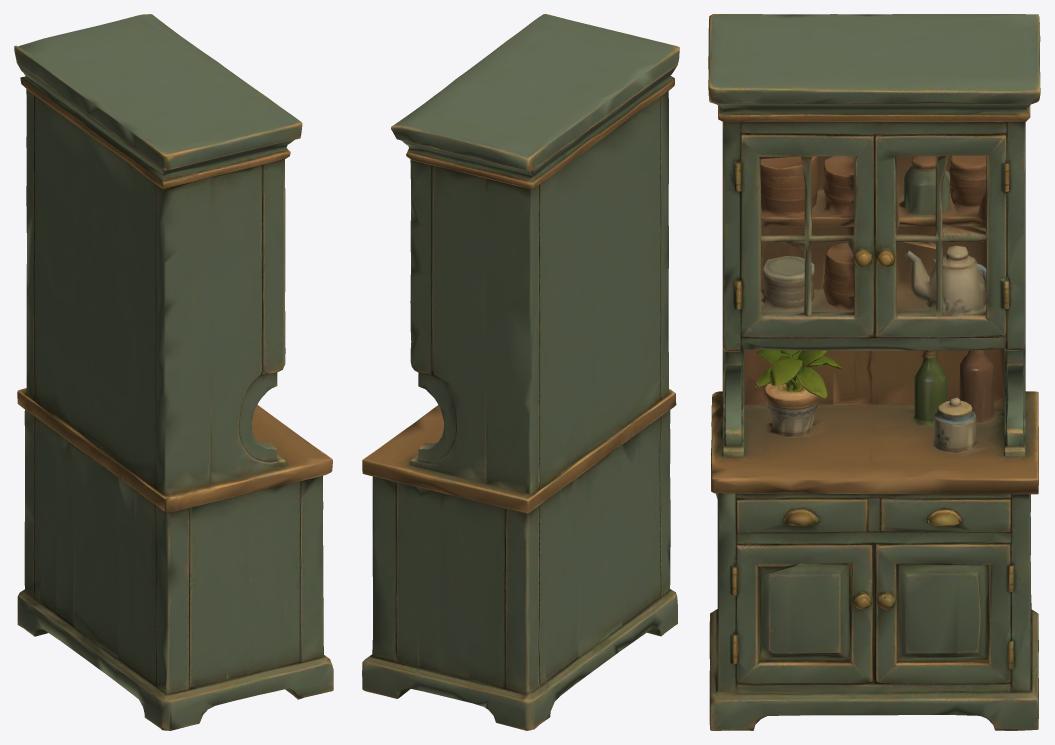
File: alacena.glb
The picture shows the model from 3 angles, left to right: view 1: azimuth 30°, elevation 25°; view 2: azimuth 150°, elevation 25°; view 3: azimuth 270°, elevation 25°; orthographic projection. The views are drawn at different scales.
Visible parts, largest first — view 1: tripo_node_f5b34c33-af3f-4931-8cde-c2067fc55220; view 2: tripo_node_f5b34c33-af3f-4931-8cde-c2067fc55220; view 3: tripo_node_f5b34c33-af3f-4931-8cde-c2067fc55220.
Boxes of the visible parts, left/top/right/bottom form: tripo_node_f5b34c33-af3f-4931-8cde-c2067fc55220: left=14, top=14, right=333, bottom=730; tripo_node_f5b34c33-af3f-4931-8cde-c2067fc55220: left=362, top=14, right=679, bottom=730; tripo_node_f5b34c33-af3f-4931-8cde-c2067fc55220: left=708, top=14, right=1040, bottom=730.
Size of the model in its own units: 0.3155 by 1 by 0.4788.
Materials: 1 (1 with a texture image).
